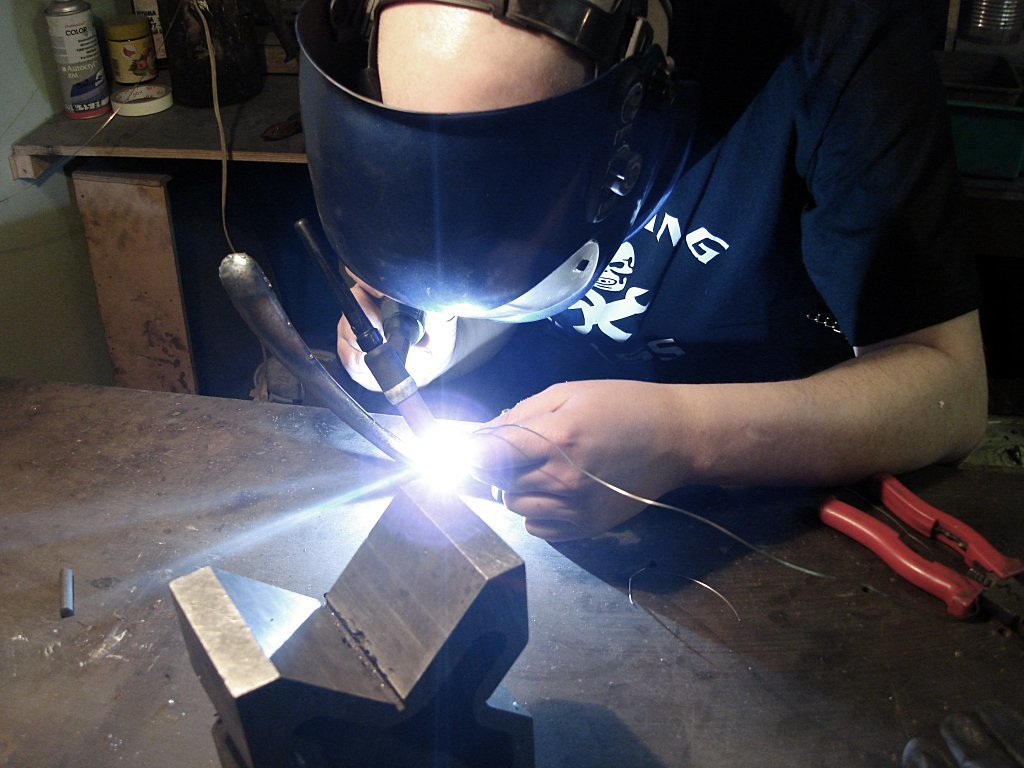Person: (294, 0, 989, 544)
